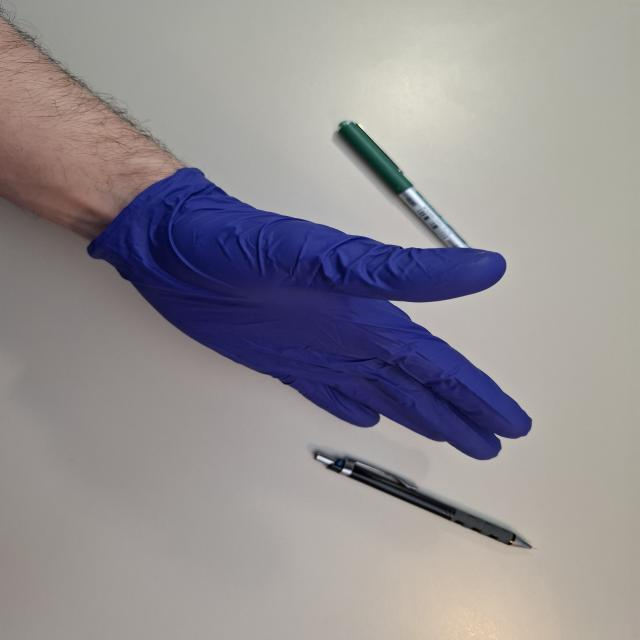glove_on: (82, 163, 540, 465)
